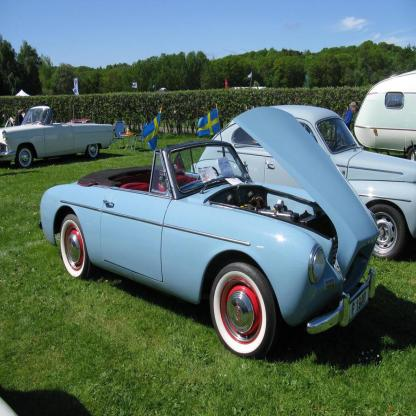Car: (37, 104, 387, 363), (190, 107, 416, 260), (1, 105, 116, 170)
